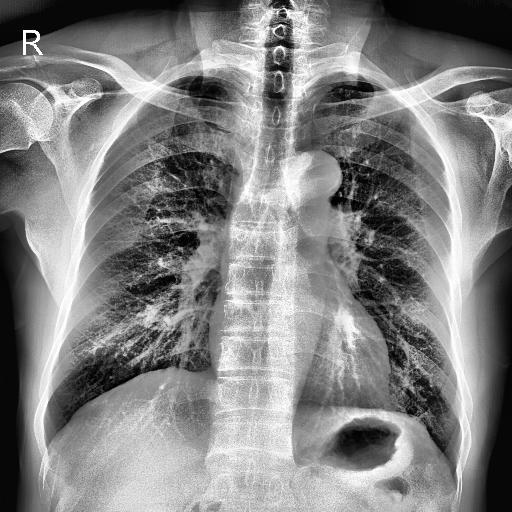0- Aortic enlargement: (286, 149, 342, 215), (281, 148, 343, 200), (290, 148, 344, 198)
11- Pleural thickening: (303, 80, 384, 96)
2- Calcification: (324, 168, 338, 194)
